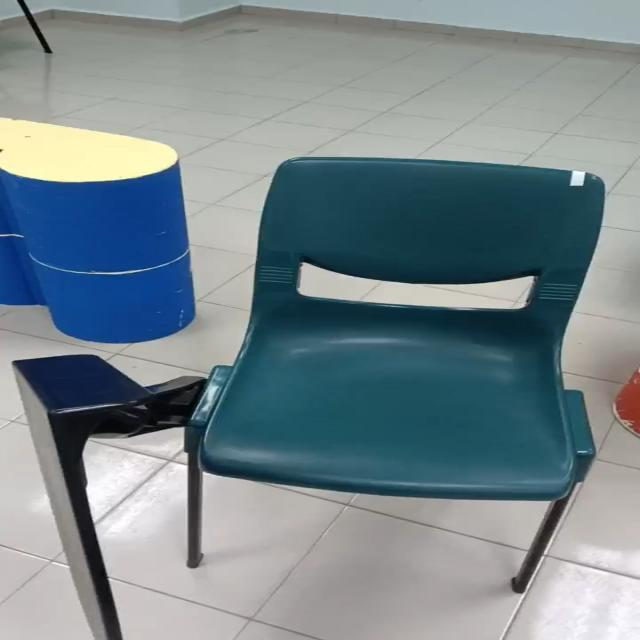sandalye: (186, 158, 604, 593)
